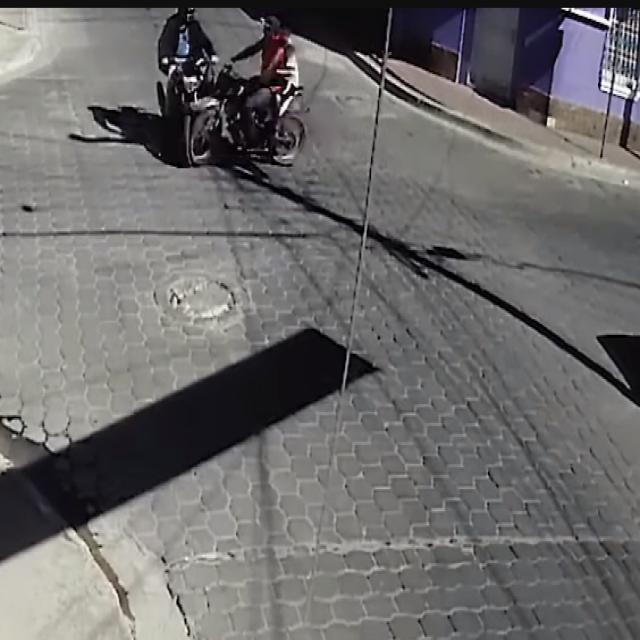accident: (157, 4, 306, 166)
